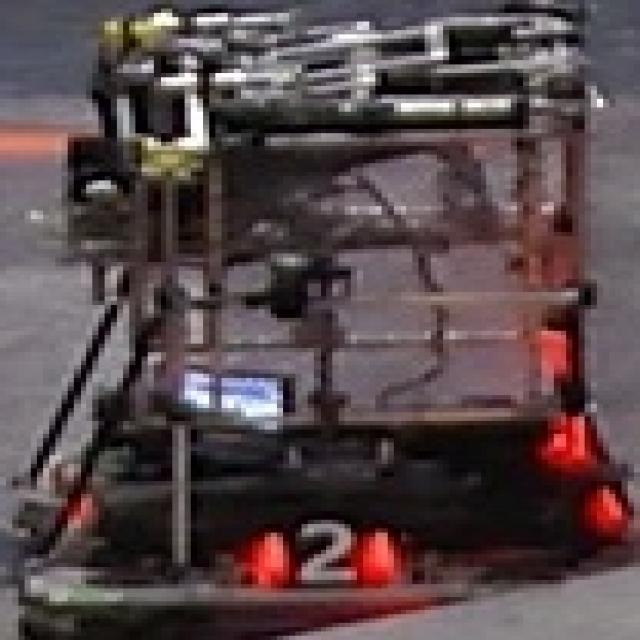R2: (258, 511, 400, 593)
